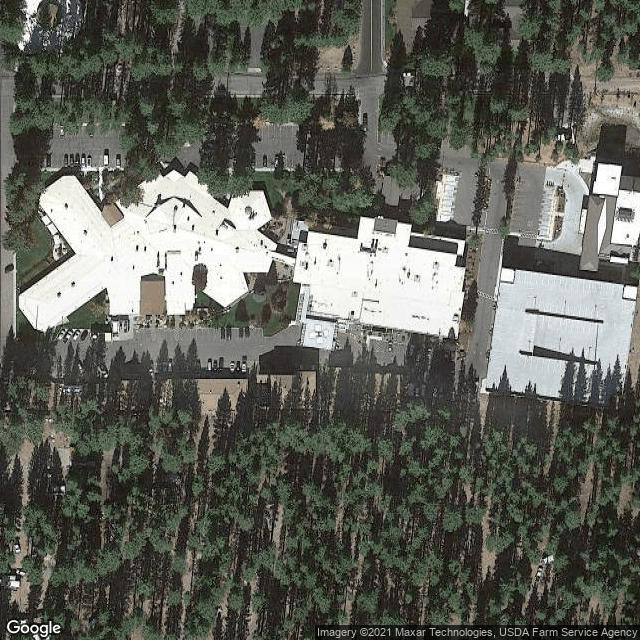Helipad: (304, 318, 334, 348)
